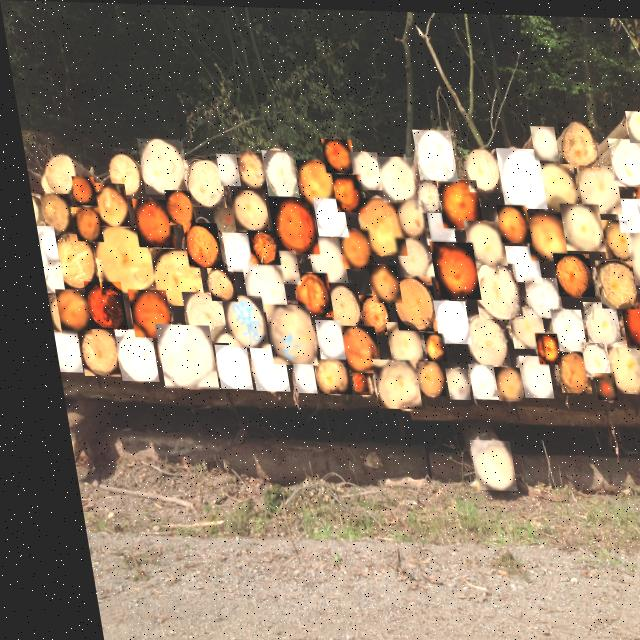wood-log: (83, 226, 148, 296), (144, 324, 207, 389), (138, 247, 196, 306), (254, 303, 306, 364), (491, 145, 541, 206), (132, 138, 185, 195), (43, 229, 92, 289), (462, 260, 513, 317), (350, 196, 400, 254), (422, 239, 472, 297), (262, 196, 312, 253), (381, 275, 429, 329), (211, 294, 258, 347), (360, 357, 409, 407), (453, 314, 500, 365), (172, 291, 219, 342), (455, 437, 502, 488), (595, 337, 639, 391), (430, 176, 477, 226), (408, 127, 453, 179), (103, 328, 147, 381), (233, 261, 278, 312), (571, 162, 616, 211), (553, 200, 598, 248), (118, 289, 162, 338), (586, 257, 630, 306), (517, 210, 561, 258), (125, 198, 168, 247), (74, 281, 117, 330), (66, 327, 108, 376), (532, 160, 574, 209), (327, 324, 370, 371), (178, 159, 220, 207), (291, 158, 333, 205), (372, 154, 414, 201), (554, 120, 596, 167), (237, 342, 278, 390), (457, 218, 499, 263), (299, 235, 339, 281), (175, 221, 215, 267), (545, 250, 586, 294), (284, 271, 324, 316), (604, 135, 640, 183), (458, 146, 497, 190), (375, 320, 413, 365), (256, 149, 293, 195), (573, 299, 611, 343), (423, 298, 461, 342), (86, 182, 124, 226), (224, 189, 263, 231), (102, 153, 140, 196), (203, 344, 240, 388), (388, 236, 427, 277), (515, 274, 554, 315), (498, 304, 536, 346), (316, 283, 352, 327), (45, 290, 81, 334), (540, 306, 576, 348), (544, 349, 580, 390), (330, 227, 366, 268), (34, 193, 69, 234), (507, 353, 541, 395), (302, 356, 340, 393), (497, 243, 534, 280), (490, 202, 525, 241), (611, 299, 640, 346), (307, 197, 341, 236), (349, 293, 382, 333), (593, 216, 626, 256), (214, 231, 247, 271), (359, 263, 393, 301), (327, 172, 360, 211), (42, 329, 71, 373), (390, 198, 423, 236), (401, 357, 434, 394), (345, 150, 377, 188), (304, 318, 334, 358), (317, 137, 351, 172), (231, 151, 262, 189), (619, 228, 640, 283), (416, 210, 449, 244), (240, 229, 272, 264), (158, 189, 189, 225), (609, 195, 640, 229), (66, 207, 96, 242), (456, 362, 486, 397), (482, 365, 512, 399), (570, 339, 599, 374), (526, 123, 555, 158), (198, 267, 228, 300), (264, 249, 292, 283), (409, 177, 436, 211), (66, 176, 94, 206), (524, 330, 550, 362), (211, 152, 235, 185), (433, 366, 458, 397), (33, 260, 56, 293), (281, 362, 305, 392), (29, 226, 50, 260), (413, 331, 437, 359), (582, 370, 606, 397), (622, 107, 640, 140), (38, 294, 51, 332), (628, 176, 640, 212), (340, 371, 359, 393), (633, 334, 640, 388), (25, 196, 37, 226), (638, 131, 640, 187), (640, 283, 640, 324)
